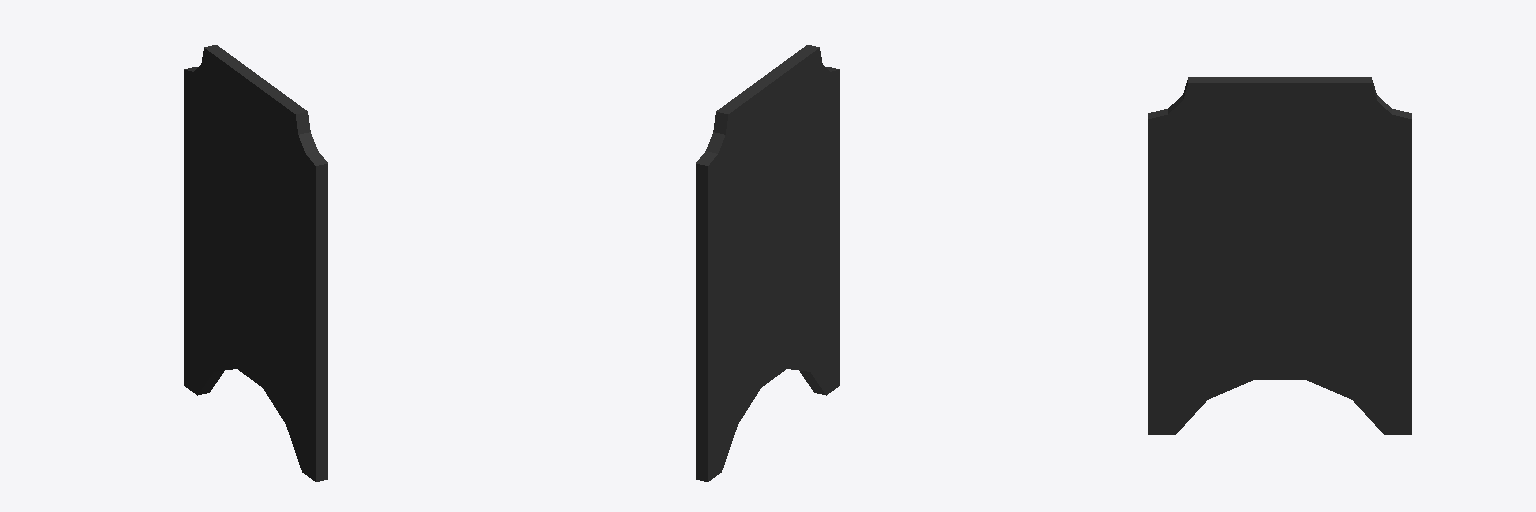
File: Robot_Football_Player_SKS_2501_Head_B0348_Head_Base_06v1_1_mesh_0.obj
3 renders of one model, left to right at view 1: azimuth 30°, elevation 25°; view 2: azimuth 150°, elevation 25°; view 3: azimuth 270°, elevation 25°, orthographic.
Size of the model in its own units: 0.0011 by 0.0287 by 0.0195.